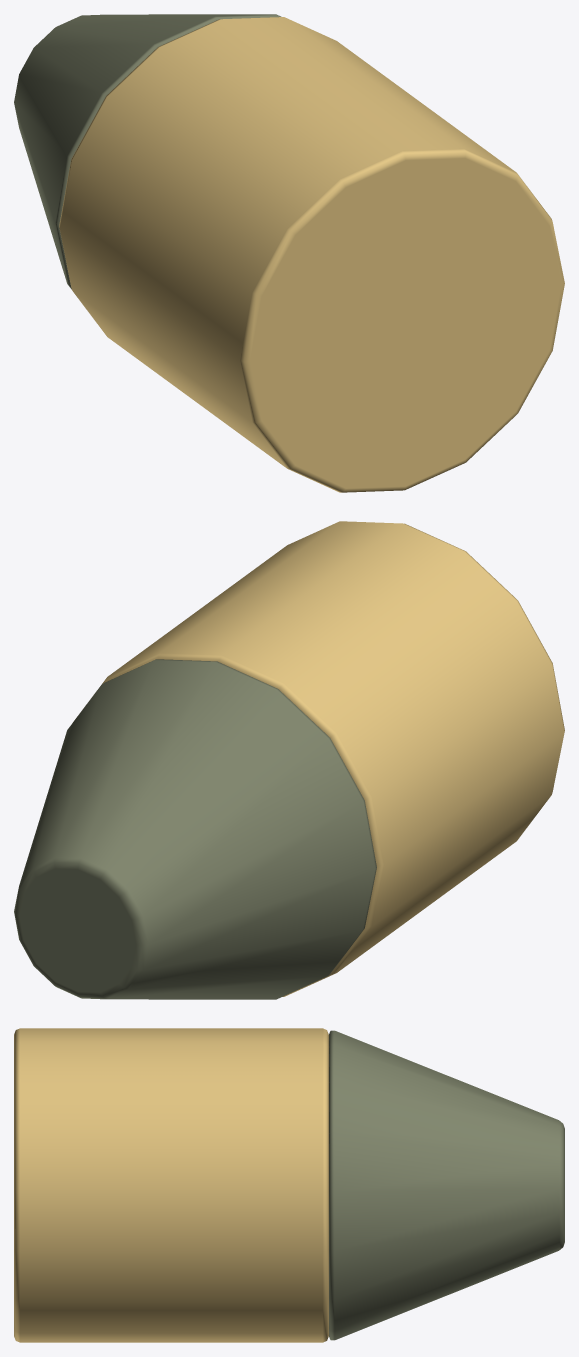
Rendered from grenade_round.glb.
The picture shows the model from 3 angles, top to bottom: view 1: azimuth 30°, elevation 25°; view 2: azimuth 150°, elevation 25°; view 3: azimuth 270°, elevation 25°; orthographic projection. The views are drawn at different scales.
Visible parts, largest first — view 1: Shell, Tip; view 2: Tip, Shell; view 3: Shell, Tip.
Part boxes in pixels (<box>): Shell: <box>59,17,564,492</box>; Tip: <box>14,14,281,289</box>; Tip: <box>14,659,376,999</box>; Shell: <box>74,521,564,996</box>; Shell: <box>14,1028,328,1342</box>; Tip: <box>329,1030,564,1340</box>.
Bounding box in the file's own units: 0.04 × 0.04 × 0.07.
